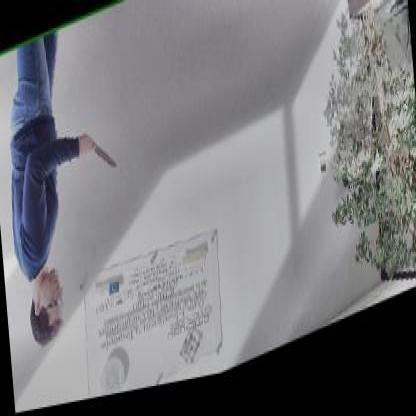knife: (86, 125, 118, 185)
